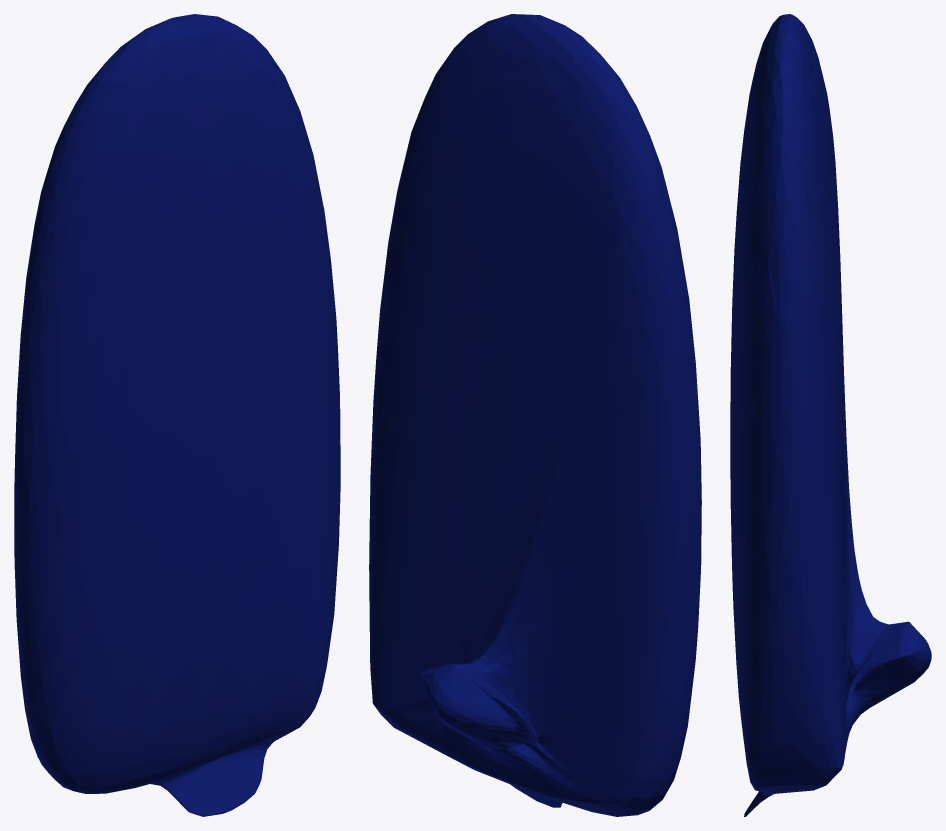
3 renders of one model, left to right at view 1: azimuth 30°, elevation 25°; view 2: azimuth 150°, elevation 25°; view 3: azimuth 270°, elevation 25°, orthographic. The views are drawn at different scales.
Parts seen in each view (by area): view 1: 043_Cube.179; view 2: 043_Cube.179; view 3: 043_Cube.179.
Boxes of the visible parts, bbox=[...] form: 043_Cube.179: bbox=[14, 14, 340, 816]; 043_Cube.179: bbox=[369, 14, 701, 816]; 043_Cube.179: bbox=[730, 14, 931, 816].
Size of the model in its own units: 4.82 by 11.49 by 2.69.
